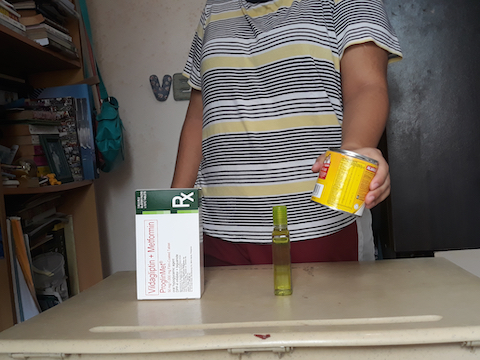bottle: (267, 198, 296, 300)
box: (128, 182, 209, 306)
can: (309, 144, 382, 217)
grab: (361, 145, 393, 210)
